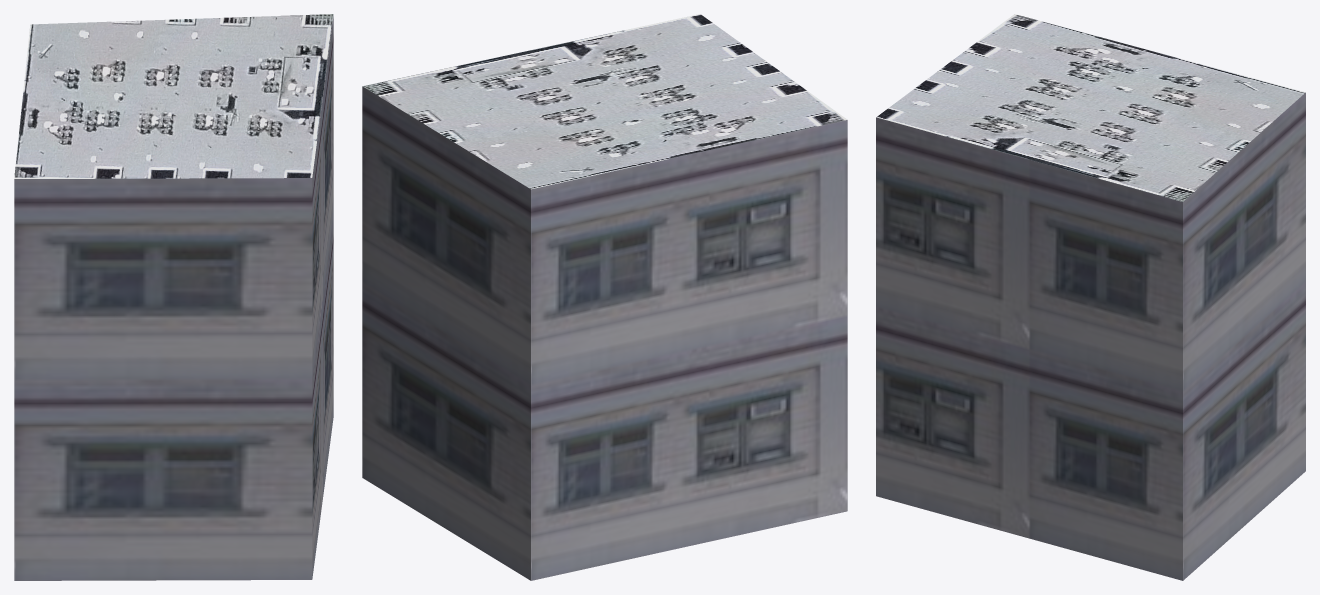
Rendered from ResTex__5085.fbx.
3 renders of one model, left to right at view 1: azimuth 30°, elevation 25°; view 2: azimuth 150°, elevation 25°; view 3: azimuth 270°, elevation 25°, orthographic. The views are drawn at different scales.
Visible parts, largest first — view 1: CityEngineMaterial_1_m, CityEngineMaterial_4_m; view 2: CityEngineMaterial_1_m, CityEngineMaterial_4_m; view 3: CityEngineMaterial_1_m, CityEngineMaterial_4_m.
Boxes of the visible parts, x1,y1,x2,y2 form: CityEngineMaterial_1_m: (14, 16, 333, 580); CityEngineMaterial_4_m: (14, 14, 333, 178); CityEngineMaterial_1_m: (362, 86, 847, 580); CityEngineMaterial_4_m: (362, 14, 847, 189); CityEngineMaterial_1_m: (876, 92, 1305, 580); CityEngineMaterial_4_m: (876, 14, 1305, 201).
Size of the model in its own units: 6.39 by 6 by 6.17.
2 materials, 2 textured.
